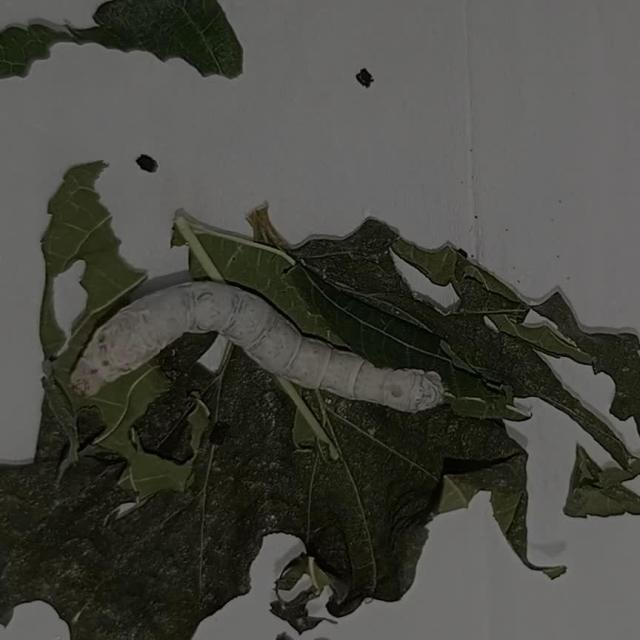Healthy: (61, 274, 462, 424)
